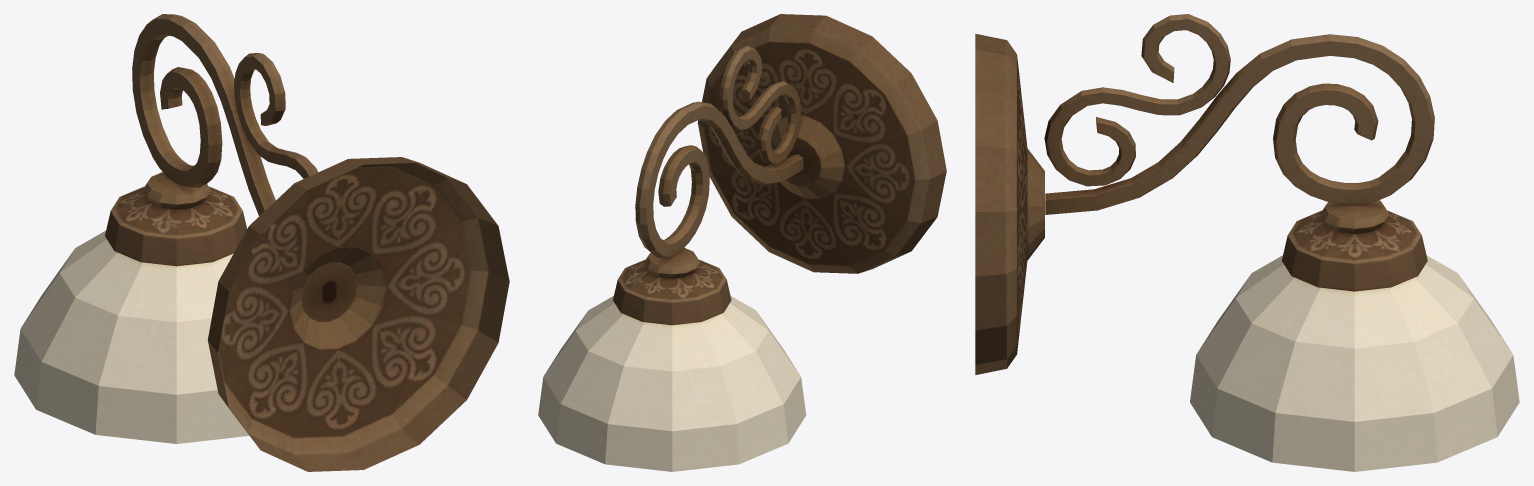
3 renders of one model, left to right at view 1: azimuth 30°, elevation 25°; view 2: azimuth 150°, elevation 25°; view 3: azimuth 270°, elevation 25°, orthographic. The views are drawn at different scales.
Parts seen in each view (by area): view 1: sconce.mo; view 2: sconce.mo; view 3: sconce.mo.
Part boxes in pixels (x1,y1,x2,y2): sconce.mo: [14, 14, 509, 471]; sconce.mo: [538, 14, 946, 471]; sconce.mo: [975, 14, 1519, 471].
Size of the model in its own units: 31.66 by 39.66 by 50.44.
1 material, 1 textured.
